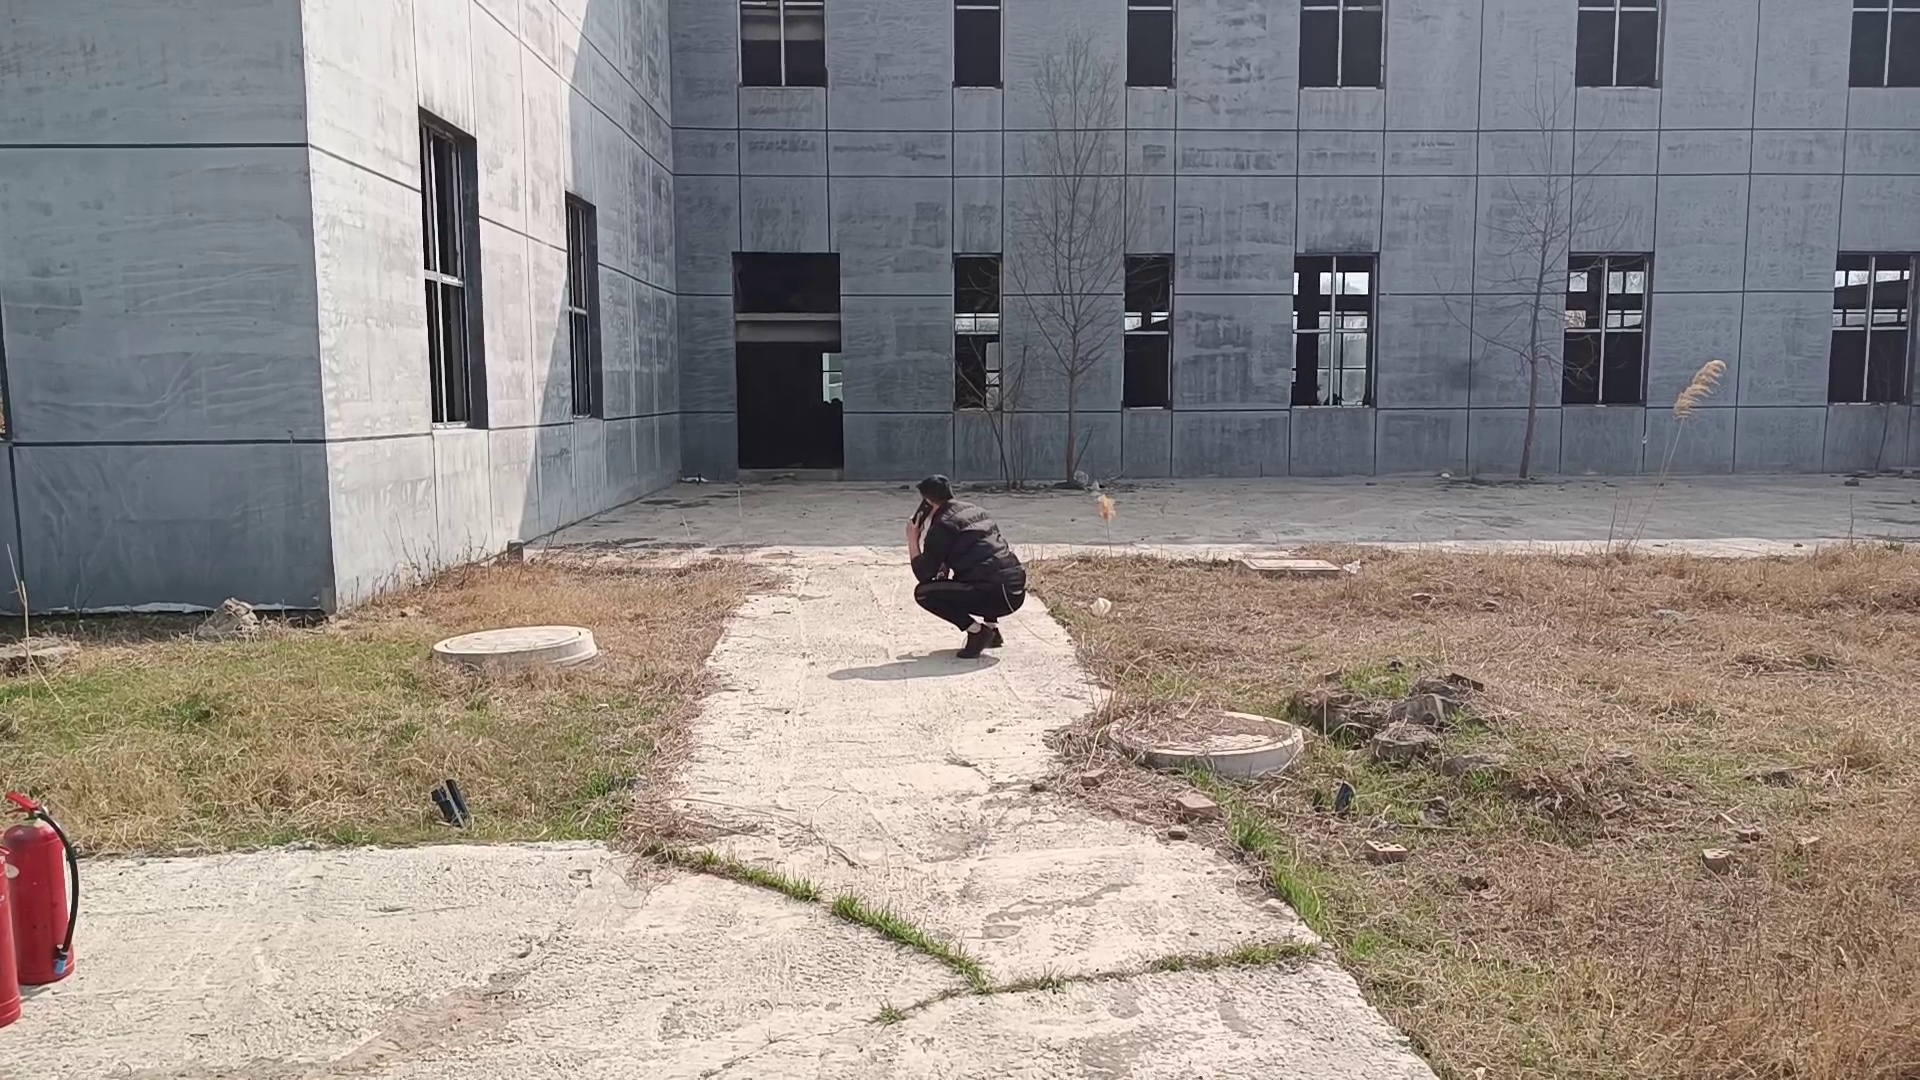phone: (897, 473, 949, 531)
